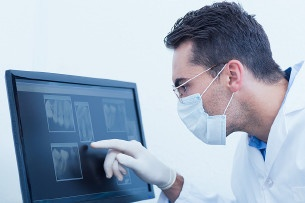Mask: (168, 66, 249, 147)
